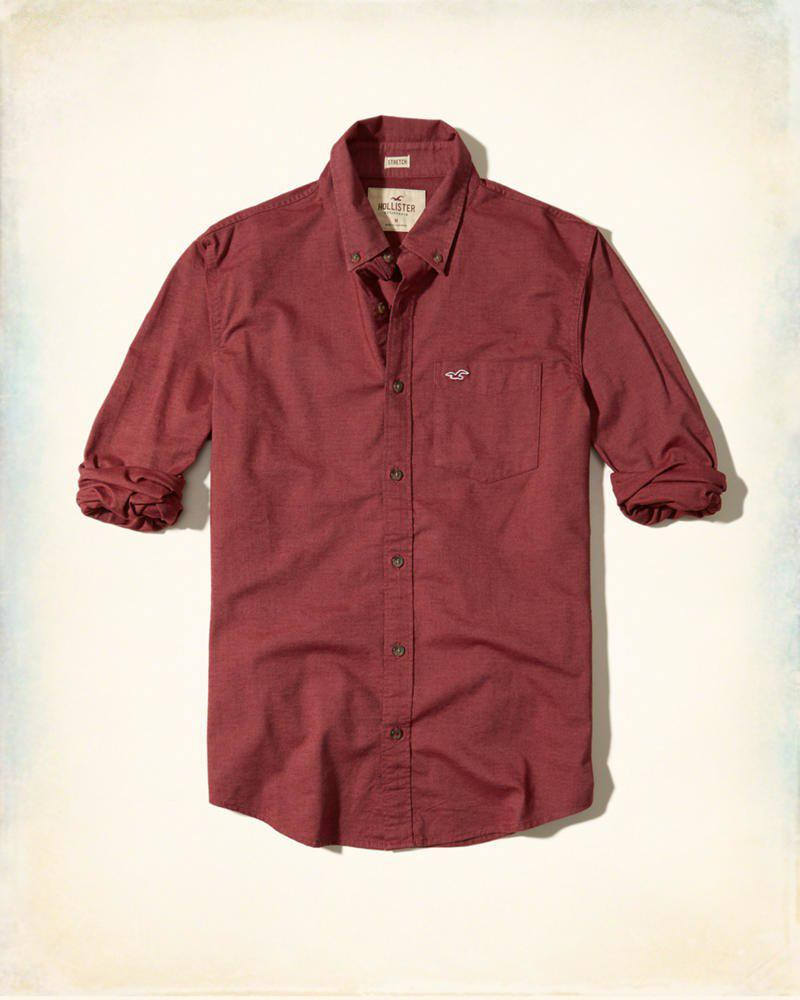teeshirt: (64, 104, 744, 862)
